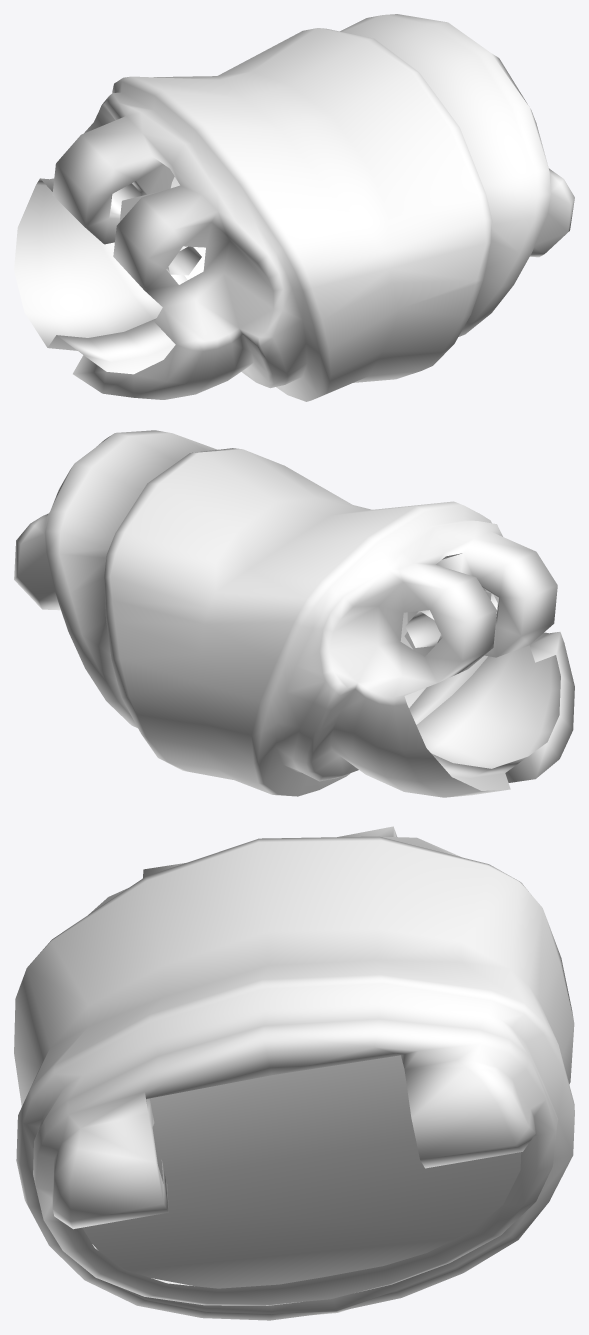
The model's file is RFinger22.dae.
3 views of the same model, one above another, from view 1: azimuth 30°, elevation 25°; view 2: azimuth 150°, elevation 25°; view 3: azimuth 270°, elevation 25° (orthographic). The views are drawn at different scales.
Parts seen in each view (by area): view 1: RFinger22; view 2: RFinger22; view 3: RFinger22.
Part boxes in pixels (x1,y1,x2,y2): RFinger22: (14,14,574,401); RFinger22: (14,430,574,797); RFinger22: (14,826,574,1320).
Bounding box in the file's own units: 0.1938 × 0.1588 × 0.1204.
Materials: 1 (1 with a texture image).
